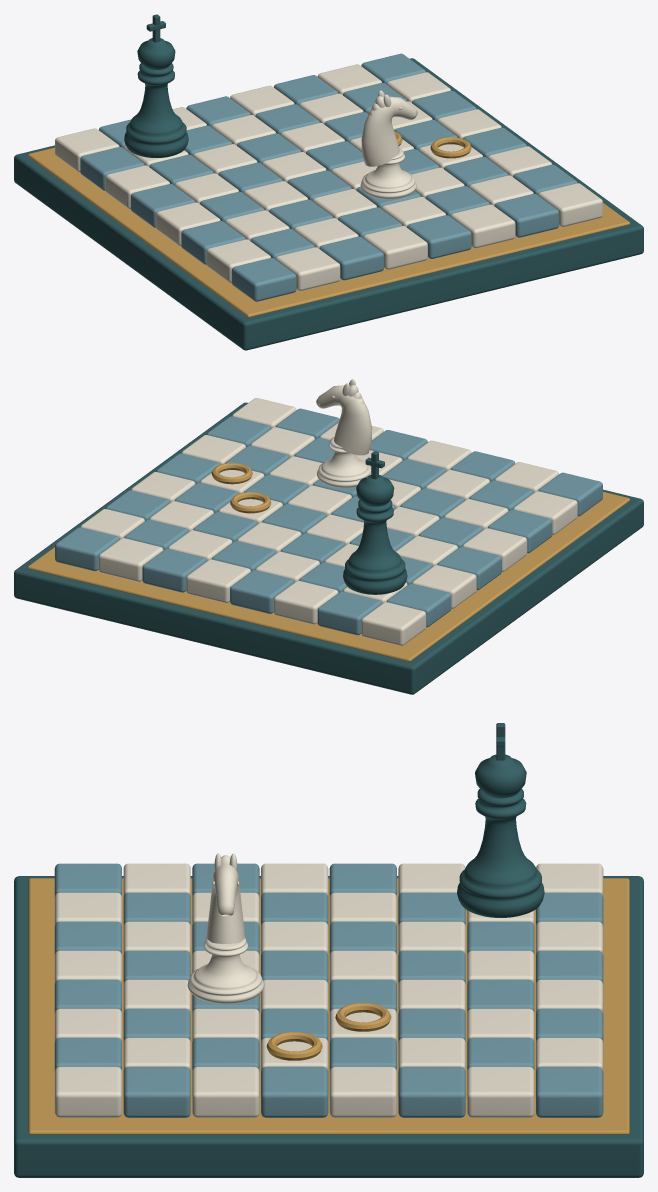
The model's file is game_board.cpp.glb.
3 views of the same model, one above another, from view 1: azimuth 30°, elevation 25°; view 2: azimuth 150°, elevation 25°; view 3: azimuth 270°, elevation 25° (orthographic). The views are drawn at different scales.
Visible parts, largest first — view 1: Cube, Cube.001, K.002, N.002, Cube.002, Cube.042, Cube.050, Cube.010, Cube.018, Cube.034, Cube.058, Cube.026 (+51 smaller); view 2: Cube, Cube.001, K.002, N.002, Cube.009, Cube.017, Cube.049, Cube.025, Cube.057, Cube.041, Cube.065, Cube.033 (+52 smaller); view 3: Cube, Cube.001, K.002, N.002, Cube.058, Cube.060, Cube.063, Cube.065, Cube.061, Cube.062, Cube.059, Cube.064 (+54 smaller).
Boxes of the visible parts, bbox=[...] form: Cube: bbox=[14, 58, 643, 350]; Cube.001: bbox=[28, 147, 629, 317]; K.002: bbox=[124, 14, 188, 157]; N.002: bbox=[360, 90, 417, 198]; Cube.002: bbox=[231, 258, 296, 301]; Cube.042: bbox=[450, 204, 515, 248]; Cube.050: bbox=[494, 194, 559, 237]; Cube.010: bbox=[275, 247, 340, 290]; Cube.018: bbox=[319, 236, 384, 280]; Cube.034: bbox=[407, 215, 471, 258]; Cube.058: bbox=[538, 183, 602, 226]; Cube.026: bbox=[363, 226, 427, 269]; Cube: bbox=[14, 402, 643, 694]; Cube.001: bbox=[28, 492, 629, 661]; K.002: bbox=[343, 451, 407, 594]; N.002: bbox=[316, 379, 372, 487]; Cube.009: bbox=[361, 602, 426, 645]; Cube.017: bbox=[317, 591, 382, 635]; Cube.049: bbox=[142, 548, 207, 592]; Cube.025: bbox=[273, 580, 338, 624]; Cube.057: bbox=[98, 538, 163, 581]; Cube.041: bbox=[186, 559, 250, 603]; Cube.065: bbox=[55, 527, 119, 571]; Cube.033: bbox=[230, 570, 294, 613]; Cube: bbox=[14, 876, 643, 1177]; Cube.001: bbox=[28, 878, 629, 1134]; K.002: bbox=[457, 723, 544, 917]; N.002: bbox=[187, 853, 264, 1003]; Cube.058: bbox=[54, 1066, 121, 1117]; Cube.060: bbox=[192, 1066, 259, 1117]; Cube.063: bbox=[398, 1066, 465, 1117]; Cube.065: bbox=[536, 1066, 603, 1117]; Cube.061: bbox=[261, 1066, 328, 1117]; Cube.062: bbox=[329, 1066, 396, 1117]; Cube.059: bbox=[123, 1066, 190, 1117]; Cube.064: bbox=[467, 1066, 534, 1117].
Bounding box in the file's own units: 4.4 × 1.92 × 4.4.
